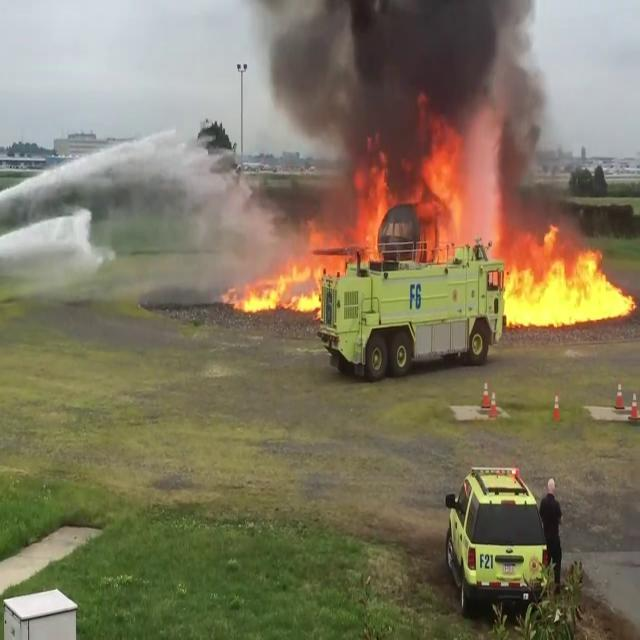Fire: (494, 226, 632, 334), (228, 240, 382, 316), (424, 127, 468, 261), (354, 150, 393, 241)
Smoke: (263, 0, 566, 211)
